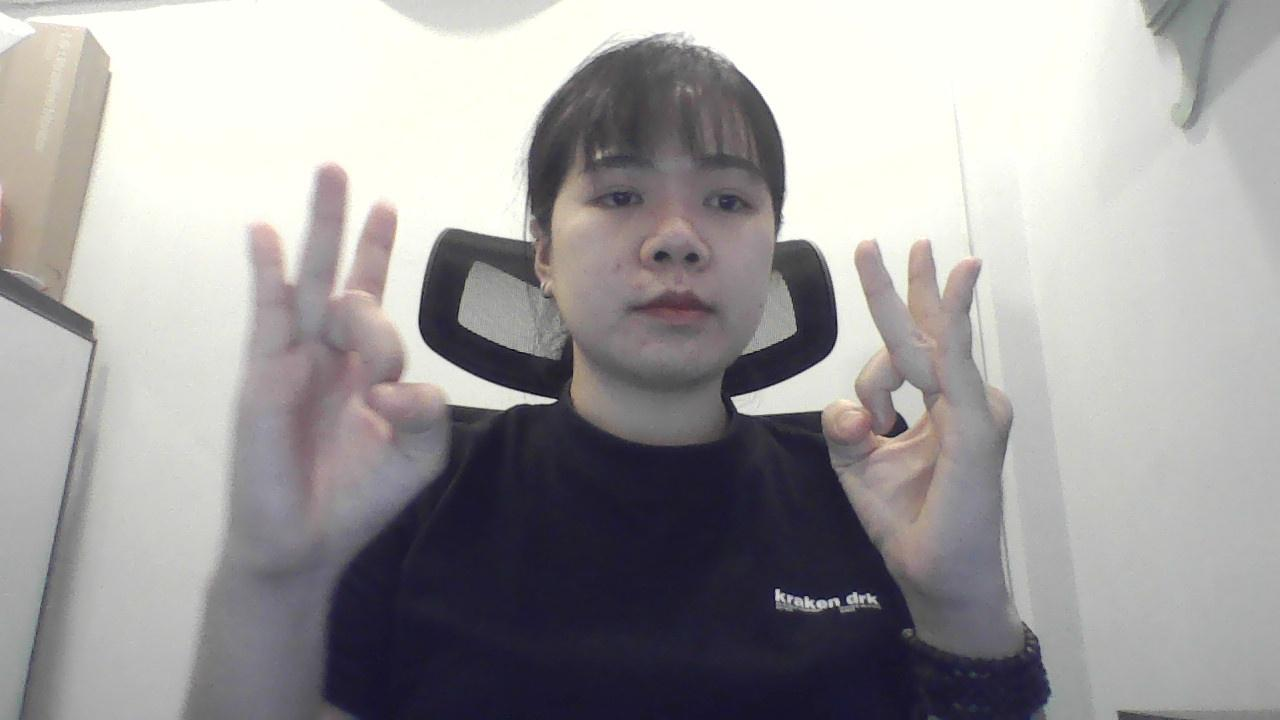H: (227, 152, 454, 603), (816, 220, 1020, 609)
